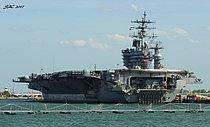MIL_Ship: (14, 9, 193, 103)
